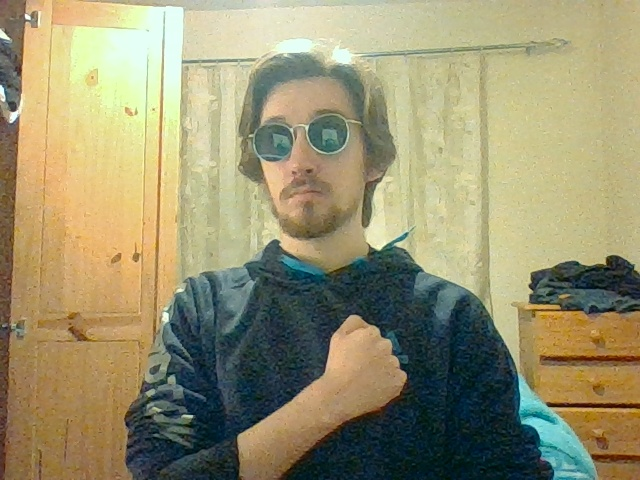my: (326, 314, 408, 416)
